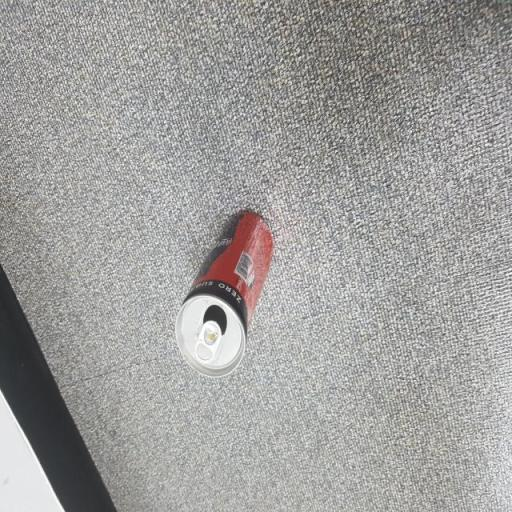metal: (163, 205, 283, 394)
